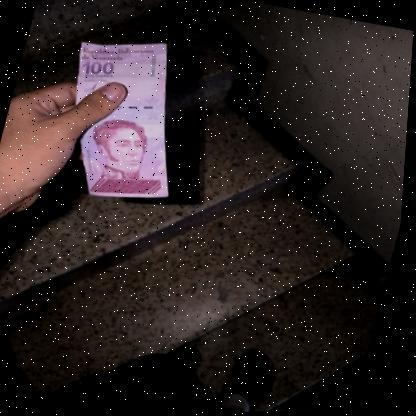one_hundred-front-vef: (44, 26, 209, 211)
